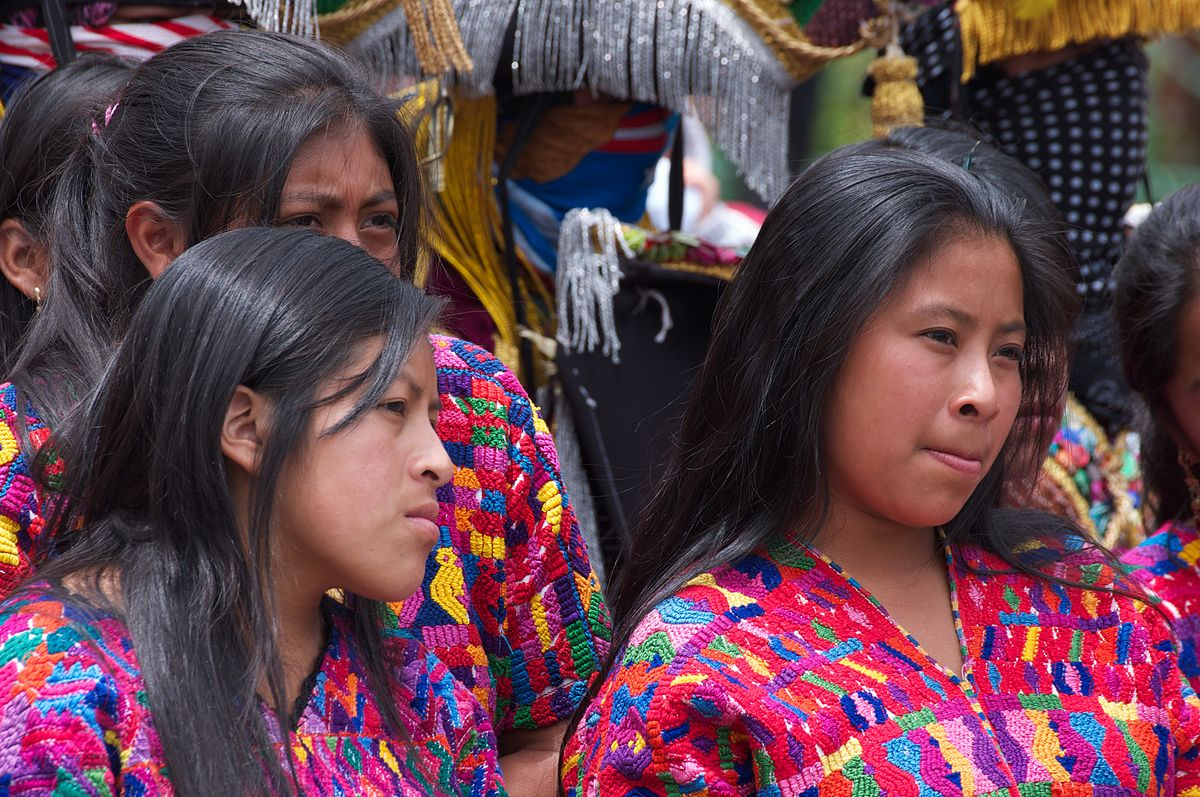no_mask: (759, 127, 1045, 551), (144, 238, 453, 630)
